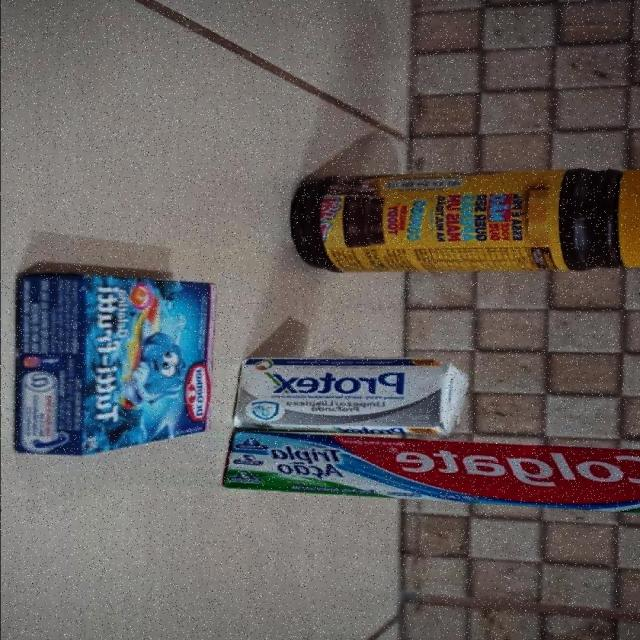ChocolatePowder: (289, 166, 640, 275)
Gelatine: (13, 273, 216, 456)
Soap: (234, 355, 466, 438)
Toothpaste: (222, 430, 640, 518)
